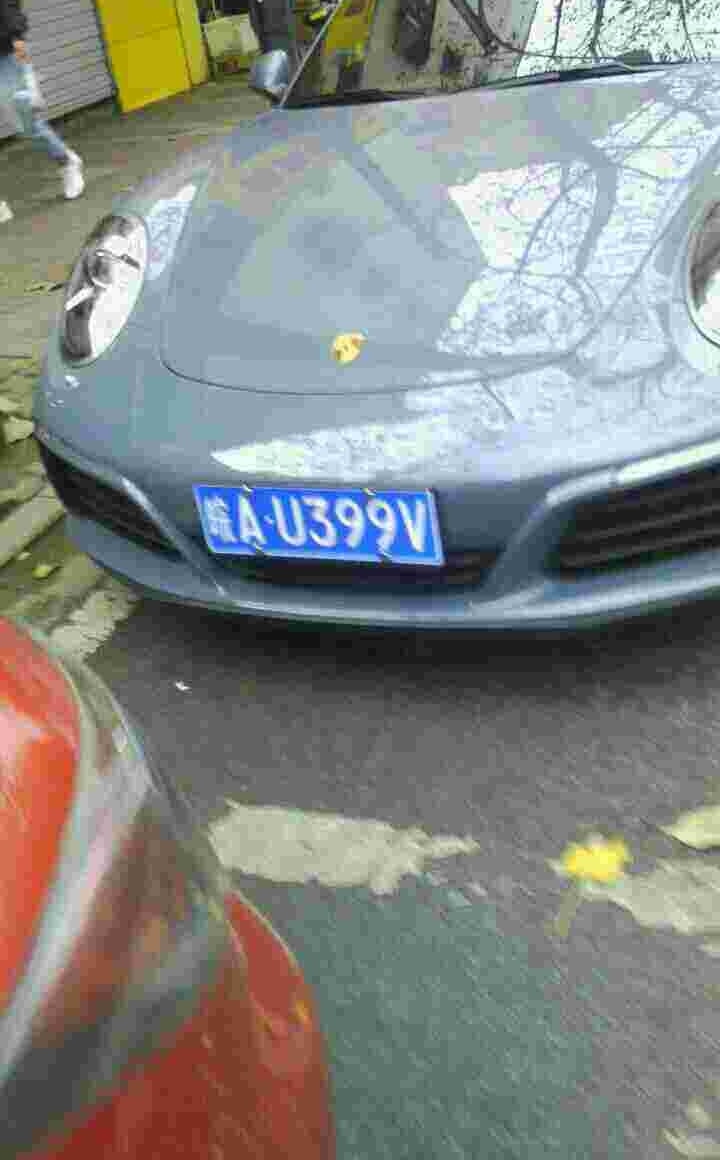license_plate: (204, 485, 444, 568)
